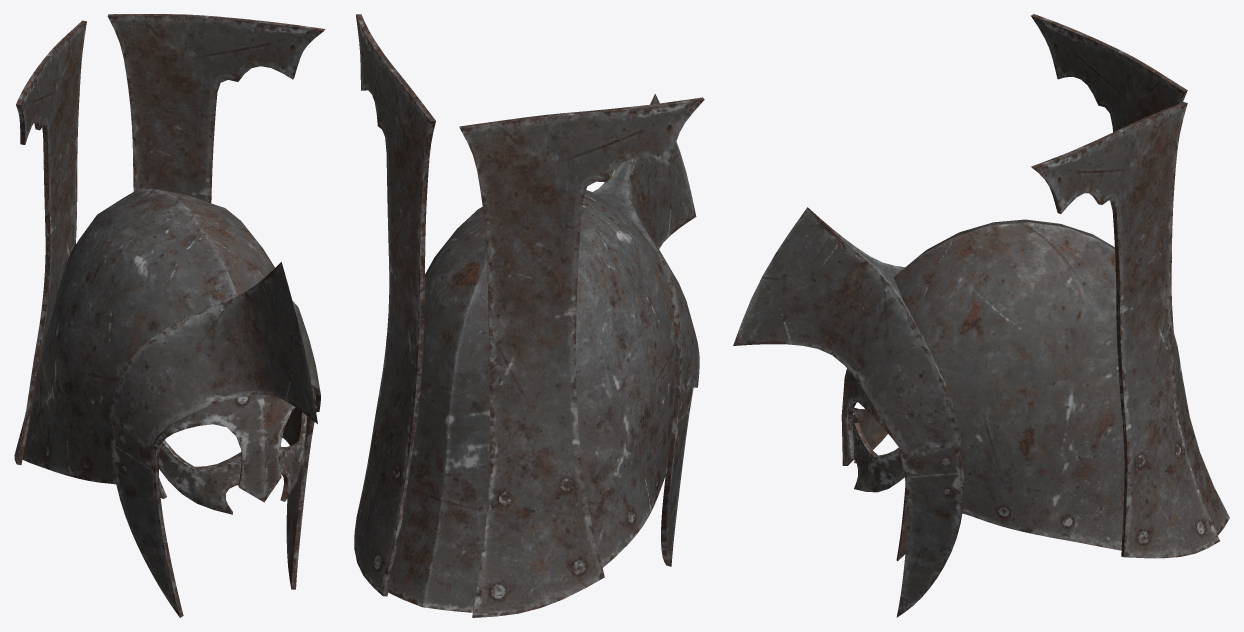
File: sk_gb_uruk_helmet_elite_a.fbx
3 renders of one model, left to right at view 1: azimuth 30°, elevation 25°; view 2: azimuth 150°, elevation 25°; view 3: azimuth 270°, elevation 25°, orthographic. The views are drawn at different scales.
Visible parts, largest first — view 1: sk_gb_uruk_helmet_elite_a; view 2: sk_gb_uruk_helmet_elite_a; view 3: sk_gb_uruk_helmet_elite_a.
Boxes of the visible parts, x1,y1,x2,y2 form: sk_gb_uruk_helmet_elite_a: (14, 14, 325, 617); sk_gb_uruk_helmet_elite_a: (354, 14, 704, 617); sk_gb_uruk_helmet_elite_a: (733, 14, 1229, 617).
Bounding box in the file's own units: 0.287 × 0.3905 × 0.4318.
Materials: 1 (1 with a texture image).
